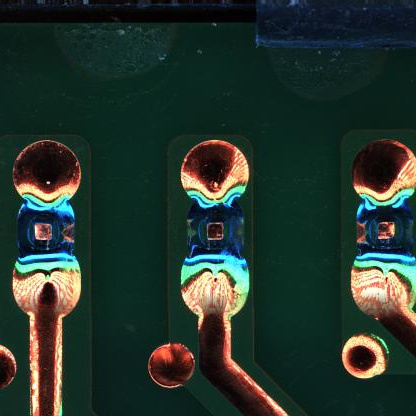spot: (185, 198, 247, 266), (355, 196, 416, 260), (18, 199, 77, 265)
